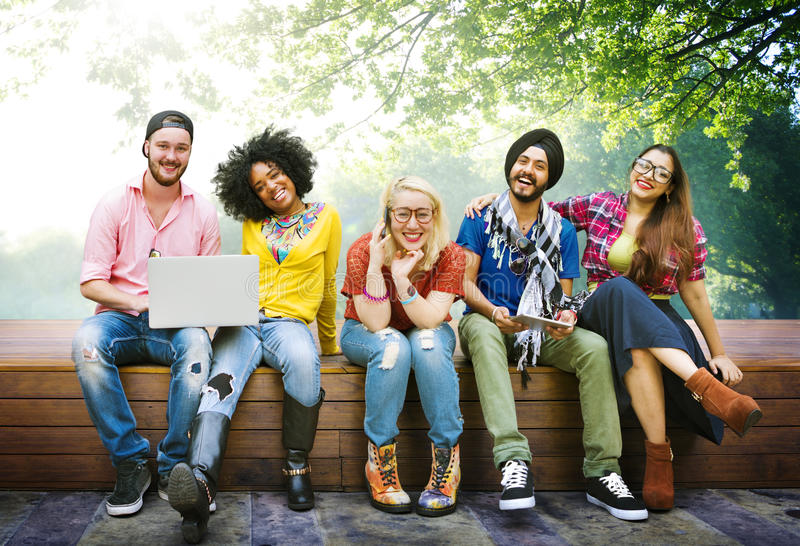person: (442, 100, 632, 542), (568, 95, 757, 520), (170, 126, 355, 543), (74, 102, 225, 533), (336, 152, 470, 544)
